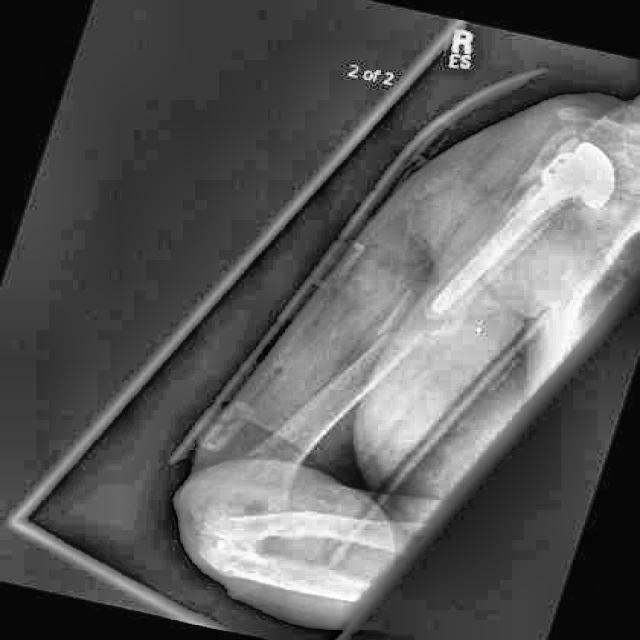humerus: (325, 260, 458, 389)
